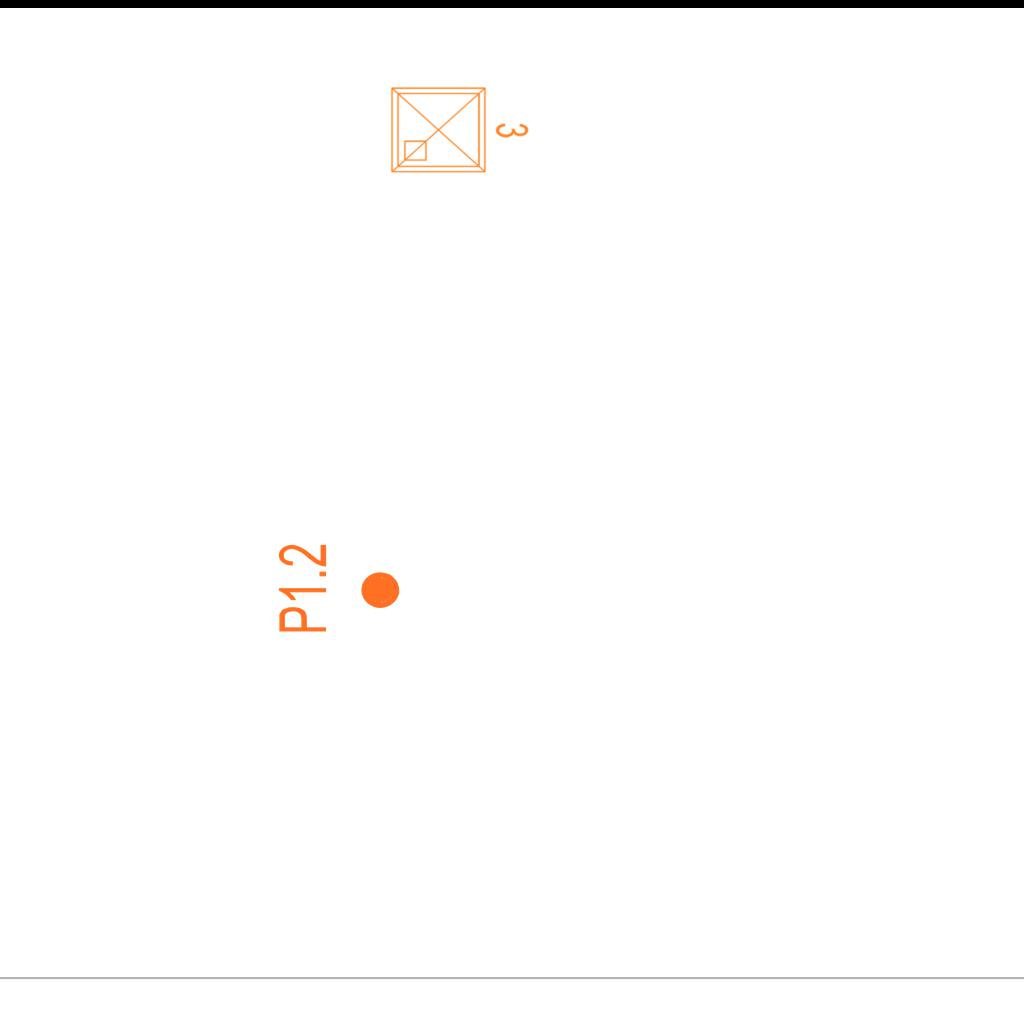Downlight_LED_Einbauleuchten_Flur: (275, 542, 403, 635)
Einbaudownlights_LED_Konferenzraeume: (384, 76, 534, 180)
